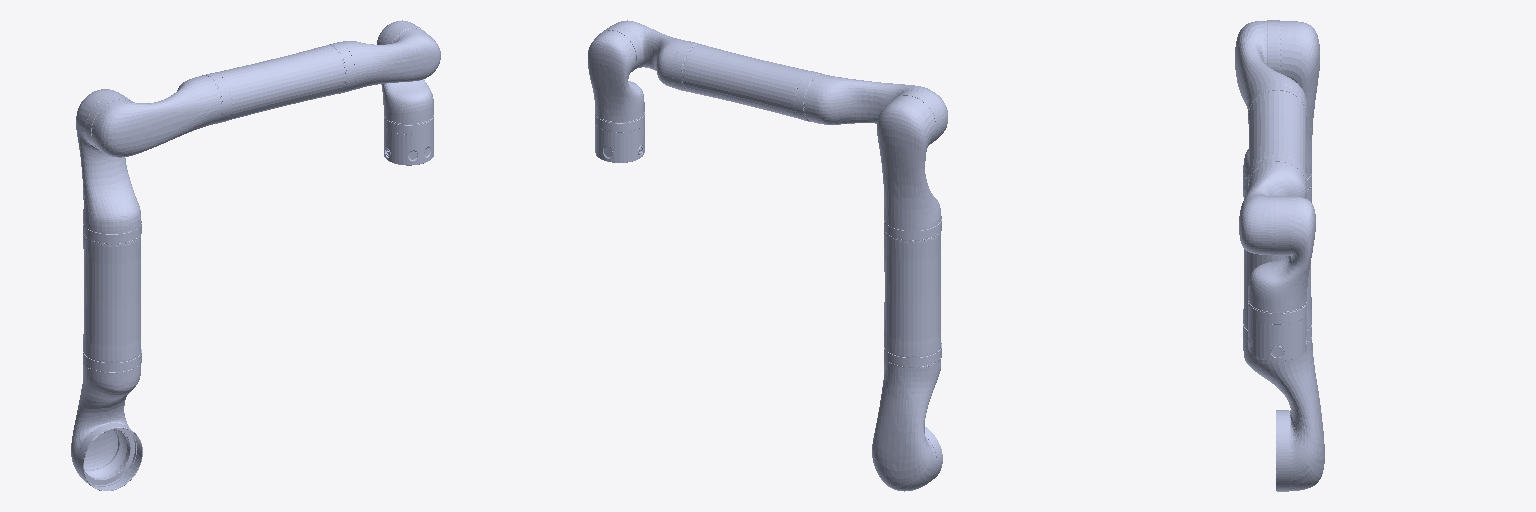
robot.urdf — tl_tcb605l:
<?xml version="1.0" encoding="utf-8"?>
<!-- This URDF was automatically created by SolidWorks to URDF Exporter! Originally created by Stephen Brawner (brawner@gmail.com) 
     Commit Version: 1.6.0-4-g7f85cfe  Build Version: 1.6.7995.38578
     For more information, please see http://wiki.ros.org/sw_urdf_exporter -->
<robot
  name="tl_tcb605l">
  <link
    name="link0">
    <inertial>
      <origin
        xyz="-0.0020391678669849 0.000208461233542918 0.043797046431842"
        rpy="0 0 0" />
      <mass
        value="0.230943297728627" />
      <inertia
        ixx="0.000578857931988568"
        ixy="2.4964429515846E-06"
        ixz="-3.62761994221812E-06"
        iyy="0.000597326060992727"
        iyz="8.87603974516219E-07"
        izz="0.000630268815467387" />
    </inertial>
    <visual>
      <origin
        xyz="0 0 0"
        rpy="0 0 0" />
      <geometry>
        <mesh
          filename="package://tl_description/meshes/tl_tcb605l/link0.STL" />
      </geometry>
      <material
        name="">
        <color
          rgba="0.792156862745098 0.819607843137255 0.933333333333333 1" />
      </material>
    </visual>
    <collision>
      <origin
        xyz="0 0 0"
        rpy="0 0 0" />
      <geometry>
        <mesh
          filename="package://tl_description/meshes/tl_tcb605l/link0.STL" />
      </geometry>
    </collision>
  </link>
  <link
    name="link1">
    <inertial>
      <origin
        xyz="-2.82592835967695E-06 -0.0149440554612562 0.0760738628611228"
        rpy="0 0 0" />
      <mass
        value="0.188795049535535" />
      <inertia
        ixx="0.000644330974536614"
        ixy="5.55804168467124E-08"
        ixz="-5.40921744938E-08"
        iyy="0.000669839544820847"
        iyz="0.000101917330586459"
        izz="0.000292784373513458" />
    </inertial>
    <visual>
      <origin
        xyz="0 0 0"
        rpy="0 0 0" />
      <geometry>
        <mesh
          filename="package://tl_description/meshes/tl_tcb605l/link1.STL" />
      </geometry>
      <material
        name="">
        <color
          rgba="0.792156862745098 0.819607843137255 0.933333333333333 1" />
      </material>
    </visual>
    <collision>
      <origin
        xyz="0 0 0"
        rpy="0 0 0" />
      <geometry>
        <mesh
          filename="package://tl_description/meshes/tl_tcb605l/link1.STL" />
      </geometry>
    </collision>
  </link>
  <joint
    name="joint1"
    type="revolute">
    <origin
      xyz="0 0 0.12215"
      rpy="0 0 0" />
    <parent
      link="link0" />
    <child
      link="link1" />
    <axis
      xyz="0 0 1" />
    <limit
      lower="-3.1416"
      upper="3.1416"
      effort="0"
      velocity="0" />
  </joint>
  <link
    name="link2">
    <inertial>
      <origin
        xyz="1.94339017576308E-06 0.253141084131434 0.00221954159481742"
        rpy="0 0 0" />
      <mass
        value="0.697362175861507" />
      <inertia
        ixx="0.0148340159046899"
        ixy="5.08235530092294E-07"
        ixz="3.15104179556921E-08"
        iyy="0.000910925446251547"
        iyz="0.000125255790475072"
        izz="0.0148212951328787" />
    </inertial>
    <visual>
      <origin
        xyz="0 0 0"
        rpy="0 0 0" />
      <geometry>
        <mesh
          filename="package://tl_description/meshes/tl_tcb605l/link2.STL" />
      </geometry>
      <material
        name="">
        <color
          rgba="0.792156862745098 0.819607843137255 0.933333333333333 1" />
      </material>
    </visual>
    <collision>
      <origin
        xyz="0 0 0"
        rpy="0 0 0" />
      <geometry>
        <mesh
          filename="package://tl_description/meshes/tl_tcb605l/link2.STL" />
      </geometry>
    </collision>
  </link>
  <joint
    name="joint2"
    type="revolute">
    <origin
      xyz="0 0.00665 0.14085"
      rpy="1.5708 0 3.1416" />
    <parent
      link="link1" />
    <child
      link="link2" />
    <axis
      xyz="0 0 -1" />
    <limit
      lower="-2.3737"
      upper="2.3737"
      effort="0"
      velocity="0" />
  </joint>
  <link
    name="link3">
    <inertial>
      <origin
        xyz="4.67748843033485E-07 0.190684816385661 0.00158652388773717"
        rpy="0 0 0" />
      <mass
        value="0.422517069527334" />
      <inertia
        ixx="0.00489098627866592"
        ixy="9.20095548301796E-08"
        ixz="2.35656303096196E-09"
        iyy="0.000427800317518154"
        iyz="0.000428033380751144"
        izz="0.00487246944433665" />
    </inertial>
    <visual>
      <origin
        xyz="0 0 0"
        rpy="0 0 0" />
      <geometry>
        <mesh
          filename="package://tl_description/meshes/tl_tcb605l/link3.STL" />
      </geometry>
      <material
        name="">
        <color
          rgba="0.792156862745098 0.819607843137255 0.933333333333333 1" />
      </material>
    </visual>
    <collision>
      <origin
        xyz="0 0 0"
        rpy="0 0 0" />
      <geometry>
        <mesh
          filename="package://tl_description/meshes/tl_tcb605l/link3.STL" />
      </geometry>
    </collision>
  </link>
  <joint
    name="joint3"
    type="revolute">
    <origin
      xyz="0 0.5195 -0.0118"
      rpy="3.1416 0 -1.5708" />
    <parent
      link="link2" />
    <child
      link="link3" />
    <axis
      xyz="0 0 1" />
    <limit
      lower="-0.9935"
      upper="4.1423"
      effort="0"
      velocity="0" />
  </joint>
  <link
    name="link4">
    <inertial>
      <origin
        xyz="5.11048107536655E-06 -0.0131445598579434 0.0626746043899813"
        rpy="0 0 0" />
      <mass
        value="0.0899817886682776" />
      <inertia
        ixx="0.000204808490643616"
        ixy="1.16223792982342E-08"
        ixz="-4.07644803032917E-08"
        iyy="0.000207969738028448"
        iyz="3.60478115175804E-05"
        izz="7.75189800156182E-05" />
    </inertial>
    <visual>
      <origin
        xyz="0 0 0"
        rpy="0 0 0" />
      <geometry>
        <mesh
          filename="package://tl_description/meshes/tl_tcb605l/link4.STL" />
      </geometry>
      <material
        name="">
        <color
          rgba="0.792156862745098 0.819607843137255 0.933333333333333 1" />
      </material>
    </visual>
    <collision>
      <origin
        xyz="0 0 0"
        rpy="0 0 0" />
      <geometry>
        <mesh
          filename="package://tl_description/meshes/tl_tcb605l/link4.STL" />
      </geometry>
    </collision>
  </link>
  <joint
    name="joint4"
    type="revolute">
    <origin
      xyz="0 0.36715 -0.00515"
      rpy="-1.5708 0 0" />
    <parent
      link="link3" />
    <child
      link="link4" />
    <axis
      xyz="0 0 1" />
    <limit
      lower="-2.5656"
      upper="2.5656"
      effort="0"
      velocity="0" />
  </joint>
  <link
    name="link5">
    <inertial>
      <origin
        xyz="1.29749982513405E-05 0.0398707312600541 0.00873816110056633"
        rpy="0 0 0" />
      <mass
        value="0.0915266768417438" />
      <inertia
        ixx="0.000167005961446363"
        ixy="3.62631342389219E-08"
        ixz="-1.27355290610366E-08"
        iyy="8.07130413912337E-05"
        iyz="3.15887030571168E-05"
        izz="0.000170834721676771" />
    </inertial>
    <visual>
      <origin
        xyz="0 0 0"
        rpy="0 0 0" />
      <geometry>
        <mesh
          filename="package://tl_description/meshes/tl_tcb605l/link5.STL" />
      </geometry>
      <material
        name="">
        <color
          rgba="0.792156862745098 0.819607843137255 0.933333333333333 1" />
      </material>
    </visual>
    <collision>
      <origin
        xyz="0 0 0"
        rpy="0 0 0" />
      <geometry>
        <mesh
          filename="package://tl_description/meshes/tl_tcb605l/link5.STL" />
      </geometry>
    </collision>
  </link>
  <joint
    name="joint5"
    type="revolute">
    <origin
      xyz="0 0.00615 0.11335"
      rpy="1.5708 -1.5708 3.1416" />
    <parent
      link="link4" />
    <child
      link="link5" />
    <axis
      xyz="0 0 1" />
    <limit
      lower="-3.8386"
      upper="0.6970"
      effort="0"
      velocity="0" />
  </joint>
  <link
    name="link6">
    <inertial>
      <origin
        xyz="0.000389397490568953 -8.96781078600198E-05 0.0324677284594266"
        rpy="0 0 0" />
      <mass
        value="0.0756964619101271" />
      <inertia
        ixx="5.7336260695604E-05"
        ixy="-1.00642151773516E-08"
        ixz="-3.24157450671107E-07"
        iyy="5.76042368829905E-05"
        iyz="1.43757553948581E-08"
        izz="7.09157247165057E-05" />
    </inertial>
    <visual>
      <origin
        xyz="0 0 0"
        rpy="0 0 0" />
      <geometry>
        <mesh
          filename="package://tl_description/meshes/tl_tcb605l/link6.STL" />
      </geometry>
      <material
        name="">
        <color
          rgba="0.792156862745098 0.819607843137255 0.933333333333333 1" />
      </material>
    </visual>
    <collision>
      <origin
        xyz="0 0 0"
        rpy="0 0 0" />
      <geometry>
        <mesh
          filename="package://tl_description/meshes/tl_tcb605l/link6.STL" />
      </geometry>
    </collision>
  </link>
  <joint
    name="joint6"
    type="revolute">
    <origin
      xyz="0 0.10615 -0.00615"
      rpy="1.5708 0 -3.1416" />
    <parent
      link="link5" />
    <child
      link="link6" />
    <axis
      xyz="0 0 1" />
    <limit
      lower="-3.1416"
      upper="3.1416"
      effort="0"
      velocity="0" />
  </joint>
</robot>

--- Facts derived from the render (not from the file) ---
Views: 3 orthographic renders of the robot side by side, from view 1: azimuth 30°, elevation 25°; view 2: azimuth 150°, elevation 25°; view 3: azimuth 270°, elevation 25°.
Robot: tl_tcb605l — 7 links, 6 joints (6 revolute); root link link0; default pose: all joints at 0.
Links seen in each view (by area): view 1: link2, link3, link4, link5, link6; view 2: link2, link3, link5, link4, link6; view 3: link2, link3, link5, link4, link6.
Link boxes in pixels (<box>): link2: <box>71,89,142,490</box>; link3: <box>85,45,345,157</box>; link4: <box>329,28,440,93</box>; link5: <box>377,20,433,123</box>; link6: <box>384,115,433,165</box>; link2: <box>872,96,942,491</box>; link3: <box>682,44,947,143</box>; link5: <box>588,26,644,121</box>; link4: <box>610,20,698,91</box>; link6: <box>595,112,644,162</box>; link2: <box>1243,21,1324,491</box>; link3: <box>1235,20,1306,176</box>; link5: <box>1248,196,1315,311</box>; link4: <box>1239,156,1306,254</box>; link6: <box>1248,301,1306,360</box>.
Bounding box of the posed robot: 0.5643 × 0.1071 × 0.6093 m (x, y, z).
5 mesh visuals loaded from 7 distinct referenced files (5 binary STL); not drawn: 2 (reference not matched to a file when rendering).
